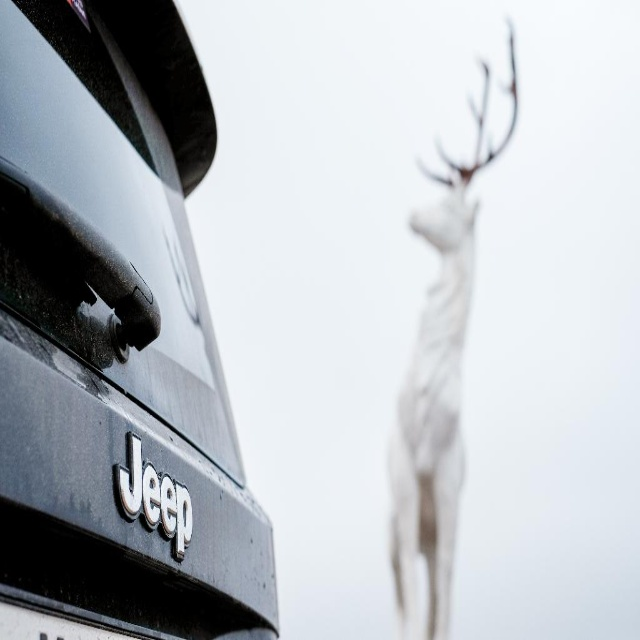Deer: (384, 14, 518, 639)
